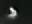person: (9, 8, 18, 20)
